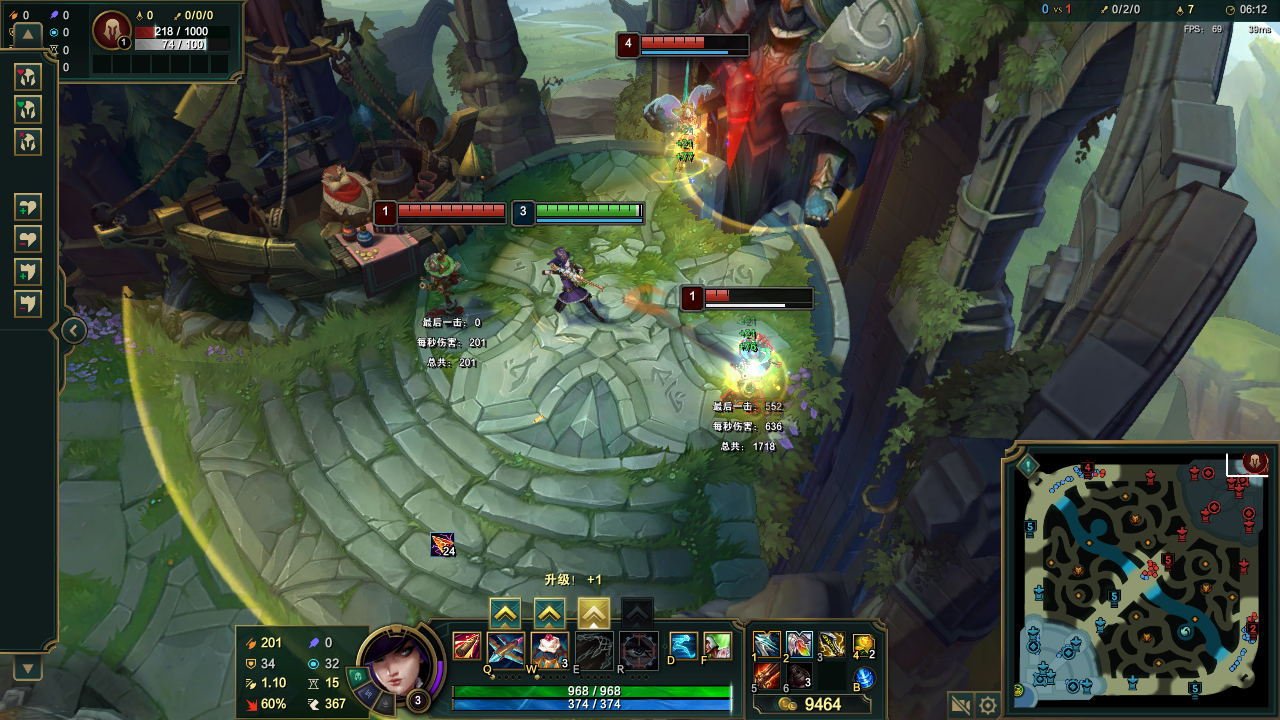DFYX: (399, 203, 512, 214), (640, 37, 757, 45), (701, 287, 815, 295)
